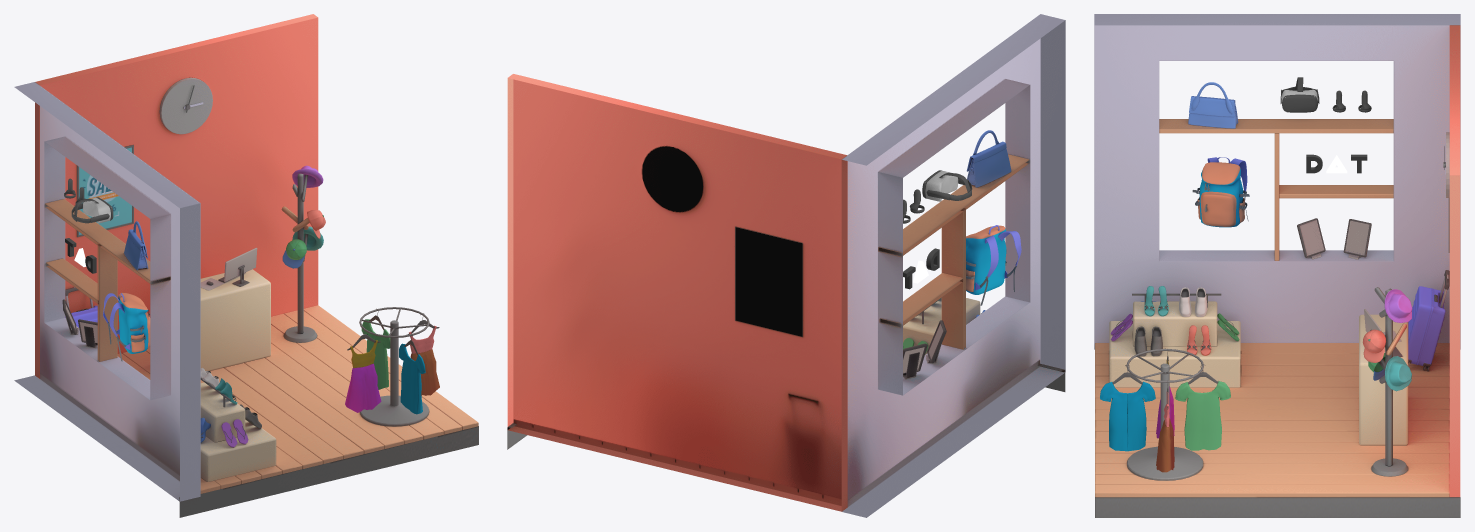
File: Room.glb
3 views of the same model, side by side, from view 1: azimuth 30°, elevation 25°; view 2: azimuth 150°, elevation 25°; view 3: azimuth 270°, elevation 25° (orthographic). The views are drawn at different scales.
Visible parts, largest first — view 1: Wall, Dress_Rotate, Shoe_Caps, Case_PC, Bag, VRHeadset, HandBag; view 2: Wall, Bag, HandBag, VRHeadset, Case_PC; view 3: Wall, Dress_Rotate, Shoe_Caps, Case_PC, Bag, HandBag, VRHeadset.
Part boxes in pixels (<box>): Wall: <box>14,14,478,517</box>; Dress_Rotate: <box>345,307,439,414</box>; Shoe_Caps: <box>200,165,325,447</box>; Case_PC: <box>62,247,257,347</box>; Bag: <box>103,292,150,361</box>; VRHeadset: <box>71,197,113,223</box>; HandBag: <box>124,221,148,270</box>; Wall: <box>507,14,1065,517</box>; Bag: <box>966,225,1021,305</box>; HandBag: <box>966,130,1011,187</box>; VRHeadset: <box>922,170,972,201</box>; Case_PC: <box>903,320,946,379</box>; Wall: <box>1094,14,1460,517</box>; Dress_Rotate: <box>1100,348,1230,472</box>; Shoe_Caps: <box>1110,286,1412,391</box>; Case_PC: <box>1297,218,1449,371</box>; Bag: <box>1192,157,1249,227</box>; HandBag: <box>1188,82,1238,128</box>; VRHeadset: <box>1280,77,1319,112</box>.
Bounding box in the file's own units: 3.02 × 2.84 × 2.75.
10 materials, 7 textured.
